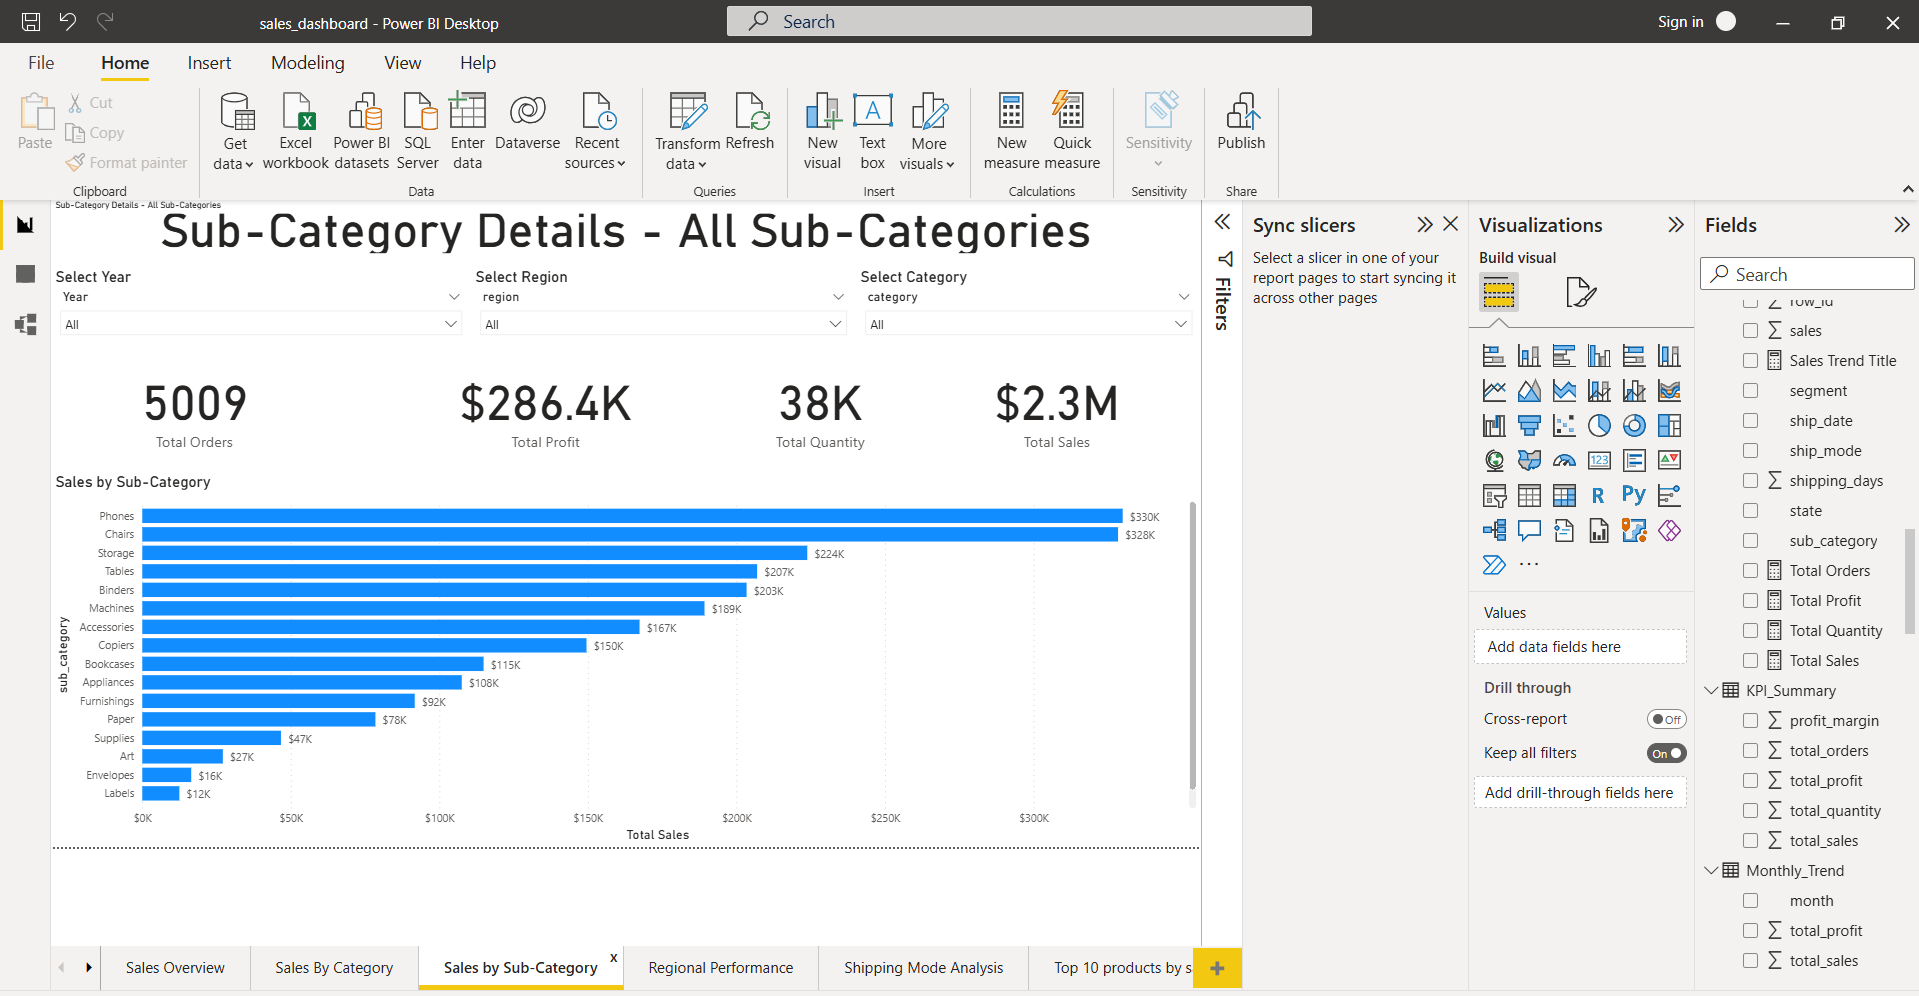

The page's visual inventory and layout, read from the dashboard file:
{"tool":"powerbi","page":{"name":"Sales by Sub-Category","canvas":[1280,720],"ordinal":2},"visuals":[{"type":"card","title":"Total Orders","fields":{"Values":["Fact_sales.Total Orders"]},"box":[0,157.8,319.7,145.4],"z":0},{"type":"clusteredBarChart","title":"Sales by Sub-Category","fields":{"Y":["Fact_sales.Total Sales"],"Category":["Subcategory_Performance.sub_category"]},"box":[0,303.2,1279.9,416.8],"z":1000},{"type":"slicer","title":"Select Year","fields":{"Values":["Date_Dim.Year"]},"box":[0,75.5,467.8,82.3],"z":2000},{"type":"slicer","title":"Select Category","fields":{"Values":["Fact_sales.category"]},"box":[895.9,75.5,384.1,82.3],"z":3000},{"type":"slicer","title":"Select Region","fields":{"Values":["Fact_sales.region"]},"box":[467.8,75.5,428,82.3],"z":4000},{"type":"card","fields":{"Values":["Category_Performance.SubCategory Details Title"]},"box":[0,0,1280,64.5],"z":5000},{"type":"card","fields":{"Values":["Fact_sales.Total Profit"]},"box":[391,157.8,319.7,145.4],"z":6000},{"type":"card","fields":{"Values":["Fact_sales.Total Quantity"]},"box":[710.7,157.8,290.8,145.4],"z":7000},{"type":"card","fields":{"Values":["Fact_sales.Total Sales"]},"box":[960.3,157.8,319.7,145.4],"z":8000}]}

Visuals, with their boxes on the page's 1280x720 design canvas (x1, y1, x2, y2). These are canvas units, not pixel positions in the 1919x996 screenshot, which may show the page scaled, cropped or inside an application window:
"Total Orders" card: x1=0 y1=158 x2=320 y2=303
"Sales by Sub-Category" clusteredBarChart: x1=0 y1=303 x2=1280 y2=720
"Select Year" slicer: x1=0 y1=76 x2=468 y2=158
"Select Category" slicer: x1=896 y1=76 x2=1280 y2=158
"Select Region" slicer: x1=468 y1=76 x2=896 y2=158
card - Category_Performance.SubCategory Details Title: x1=0 y1=0 x2=1280 y2=64
card - Fact_sales.Total Profit: x1=391 y1=158 x2=711 y2=303
card - Fact_sales.Total Quantity: x1=711 y1=158 x2=1002 y2=303
card - Fact_sales.Total Sales: x1=960 y1=158 x2=1280 y2=303
